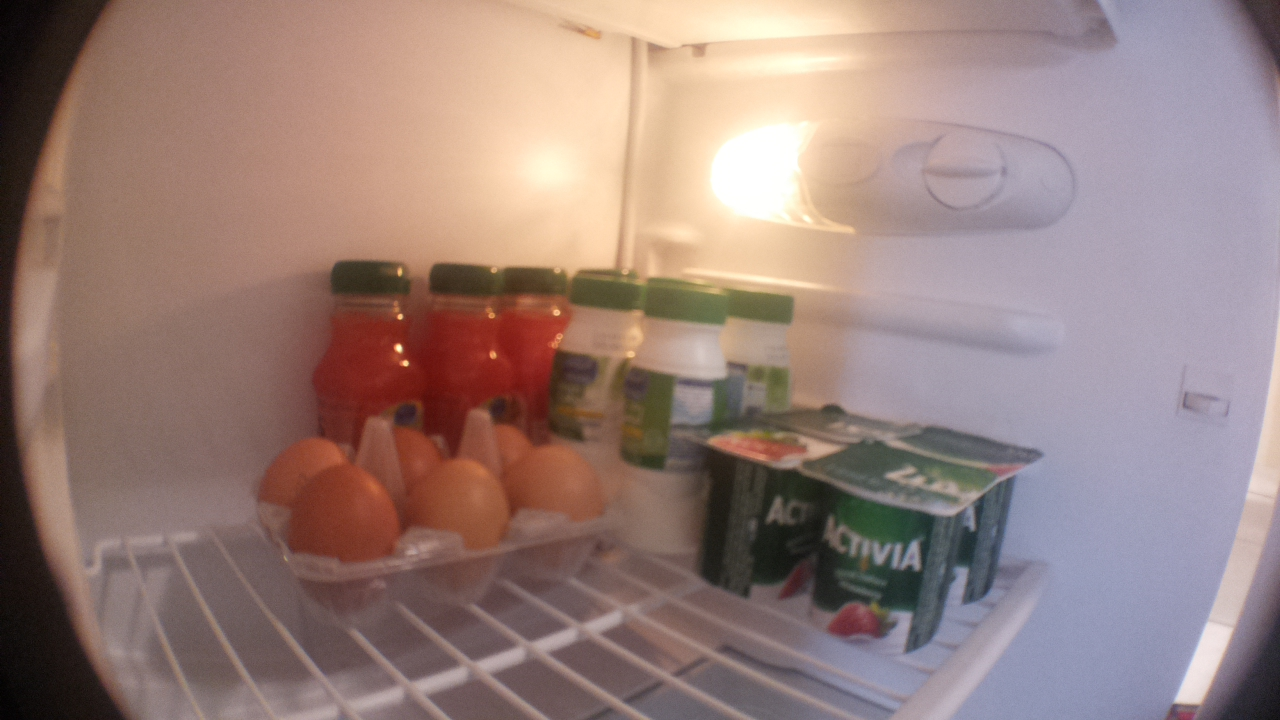egg: (277, 464, 410, 634), (408, 455, 509, 606), (511, 443, 610, 583), (249, 437, 354, 512), (370, 427, 451, 484), (491, 424, 538, 471)
juice: (310, 255, 421, 430), (421, 260, 509, 425), (499, 264, 575, 427)
laban: (615, 278, 732, 553), (547, 273, 642, 437), (726, 281, 808, 423)
yoghurt: (793, 430, 996, 655), (912, 422, 1047, 637), (687, 412, 825, 607)
